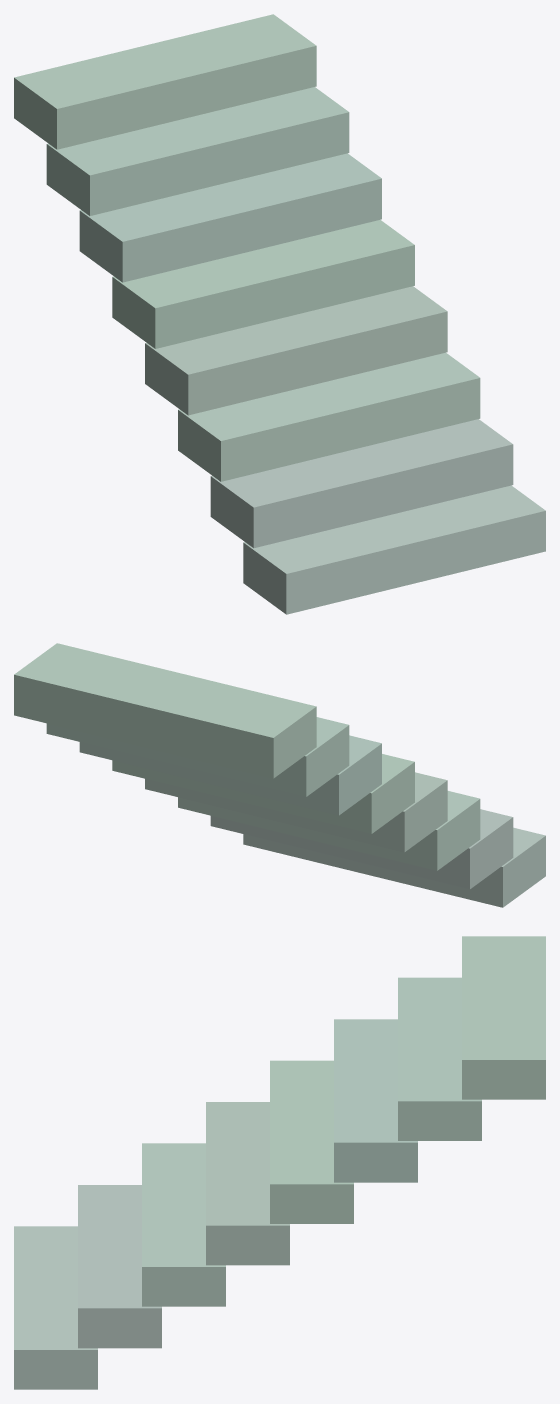
The model's file is stair_pastel.glb.
The picture shows the model from 3 angles, top to bottom: view 1: azimuth 30°, elevation 25°; view 2: azimuth 150°, elevation 25°; view 3: azimuth 270°, elevation 25°; orthographic projection. The views are drawn at different scales.
Parts seen in each view (by area): view 1: Stair; view 2: Stair; view 3: Stair.
Part boxes in pixels (bbox=[...]): Stair: bbox=[14, 14, 545, 614]; Stair: bbox=[14, 643, 545, 907]; Stair: bbox=[14, 936, 545, 1389].
Size of the model in its own units: 1.6 by 1.99 by 2.91.
